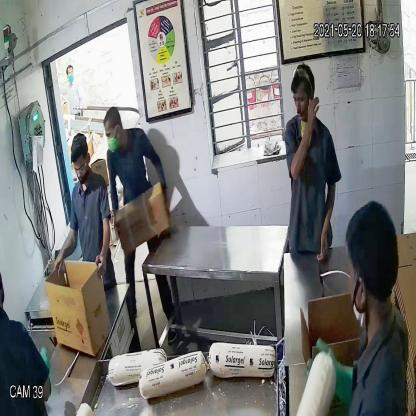goggles: (69, 158, 93, 177)
no_goggles: (103, 124, 123, 139), (292, 91, 310, 106)
